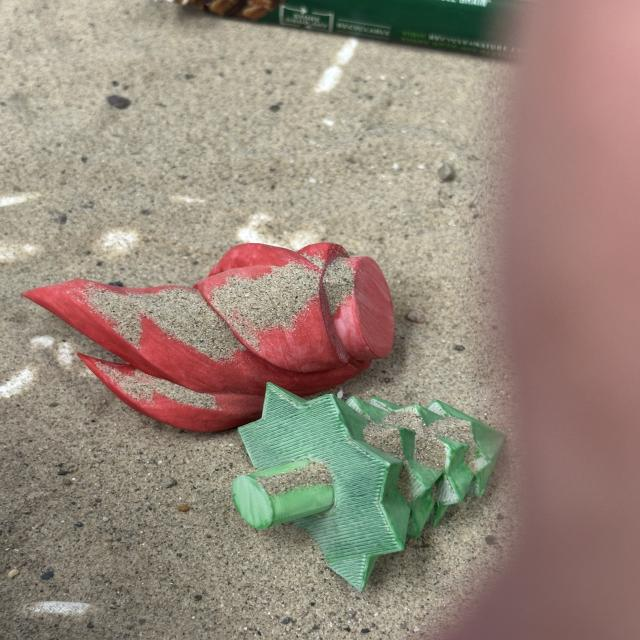fire: (21, 240, 397, 433)
tree: (230, 381, 507, 592)
